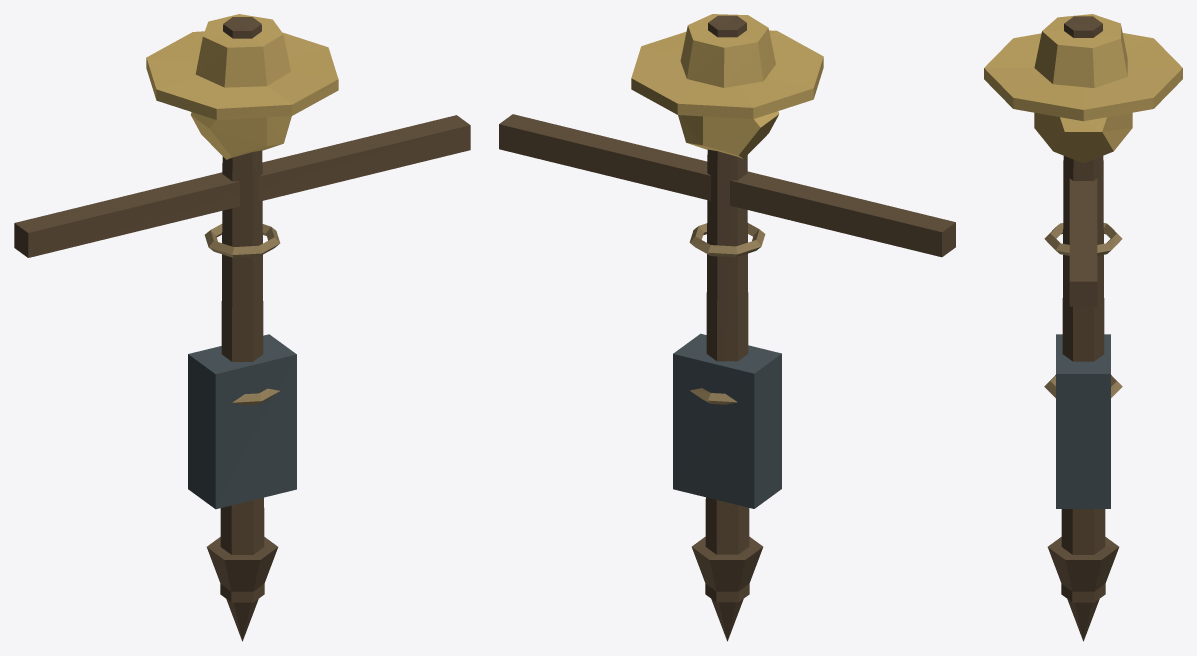
File: scarecrow.source.glb
3 views of the same model, side by side, from view 1: azimuth 30°, elevation 25°; view 2: azimuth 150°, elevation 25°; view 3: azimuth 270°, elevation 25° (orthographic).
Parts seen in each view (by area): view 1: scarecrow-cross-timber-mesh, scarecrow-slim-trousers-mesh, scarecrow-tall-pole-mesh, scarecrow-thin-straw-hat-brim-mesh, scarecrow-straw-hat-crown-mesh, scarecrow-ground-stake-mesh, scarecrow-sack-head-mesh, scarecrow-rope-tie-mesh; view 2: scarecrow-cross-timber-mesh, scarecrow-slim-trousers-mesh, scarecrow-tall-pole-mesh, scarecrow-thin-straw-hat-brim-mesh, scarecrow-straw-hat-crown-mesh, scarecrow-ground-stake-mesh, scarecrow-sack-head-mesh, scarecrow-rope-tie-mesh; view 3: scarecrow-thin-straw-hat-brim-mesh, scarecrow-slim-trousers-mesh, scarecrow-tall-pole-mesh, scarecrow-straw-hat-crown-mesh, scarecrow-cross-timber-mesh, scarecrow-sack-head-mesh, scarecrow-ground-stake-mesh, scarecrow-rope-tie-mesh.
Part boxes in pixels (bbox=[...]): scarecrow-cross-timber-mesh: bbox=[14, 115, 470, 257]; scarecrow-slim-trousers-mesh: bbox=[188, 334, 296, 509]; scarecrow-tall-pole-mesh: bbox=[220, 17, 264, 602]; scarecrow-thin-straw-hat-brim-mesh: bbox=[146, 31, 338, 119]; scarecrow-straw-hat-crown-mesh: bbox=[195, 14, 290, 87]; scarecrow-ground-stake-mesh: bbox=[206, 537, 278, 641]; scarecrow-sack-head-mesh: bbox=[191, 112, 291, 159]; scarecrow-rope-tie-mesh: bbox=[204, 224, 280, 257]; scarecrow-cross-timber-mesh: bbox=[499, 114, 955, 257]; scarecrow-slim-trousers-mesh: bbox=[673, 333, 781, 508]; scarecrow-tall-pole-mesh: bbox=[705, 15, 749, 602]; scarecrow-thin-straw-hat-brim-mesh: bbox=[631, 30, 823, 119]; scarecrow-straw-hat-crown-mesh: bbox=[680, 14, 775, 87]; scarecrow-ground-stake-mesh: bbox=[691, 536, 763, 641]; scarecrow-sack-head-mesh: bbox=[678, 111, 779, 158]; scarecrow-rope-tie-mesh: bbox=[689, 223, 765, 257]; scarecrow-thin-straw-hat-brim-mesh: bbox=[984, 33, 1182, 121]; scarecrow-slim-trousers-mesh: bbox=[1056, 334, 1110, 508]; scarecrow-tall-pole-mesh: bbox=[1061, 16, 1105, 602]; scarecrow-straw-hat-crown-mesh: bbox=[1034, 14, 1127, 88]; scarecrow-cross-timber-mesh: bbox=[1069, 178, 1097, 306]; scarecrow-sack-head-mesh: bbox=[1034, 112, 1132, 163]; scarecrow-ground-stake-mesh: bbox=[1047, 537, 1119, 641]; scarecrow-rope-tie-mesh: bbox=[1044, 223, 1122, 255].
Size of the model in its own units: 1.85 by 2.47 by 0.72.
